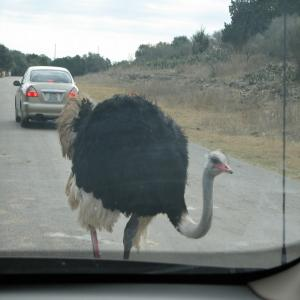Vehicle-registration-plate: (48, 94, 59, 102)
